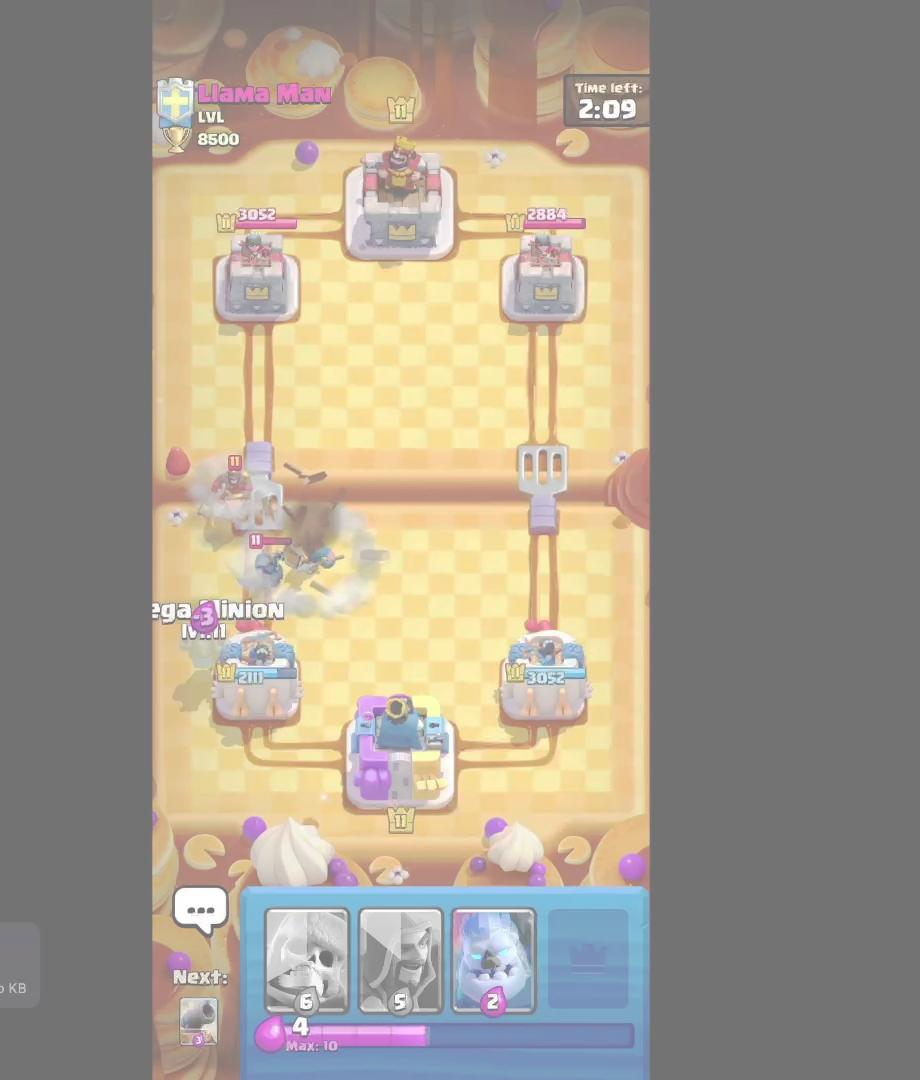Hog Rider: (199, 463, 259, 515)
Mini Pekka: (231, 526, 306, 598)
